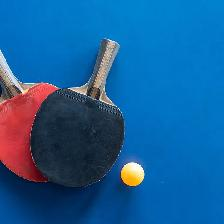YellowBall: (120, 161, 144, 186)
